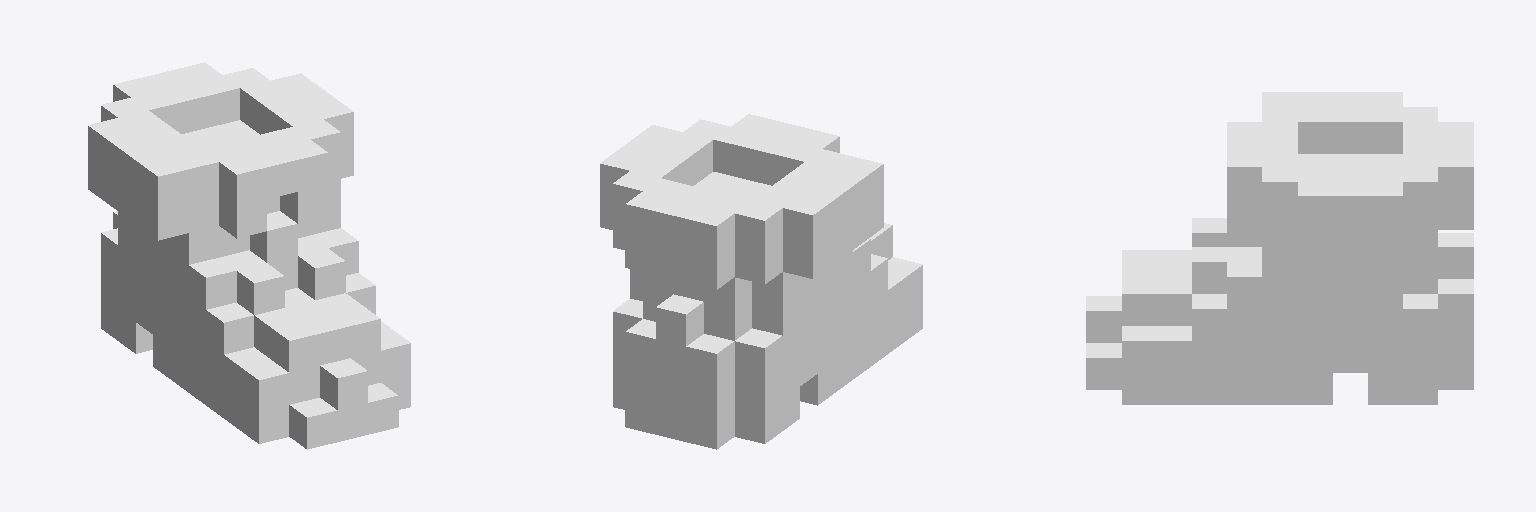
File: kotUnityVersion-7.obj
The picture shows the model from 3 angles: view 1: azimuth 30°, elevation 25°; view 2: azimuth 150°, elevation 25°; view 3: azimuth 270°, elevation 25°; orthographic projection.
Visible parts, largest first — view 1: object 1; view 2: object 1; view 3: object 1.
Part boxes in pixels (x1,y1,x2,y2): object 1: (88, 62, 410, 449); object 1: (600, 114, 922, 449); object 1: (1086, 92, 1473, 404).
Size of the model in its own units: 0.7 by 0.7 by 1.1.